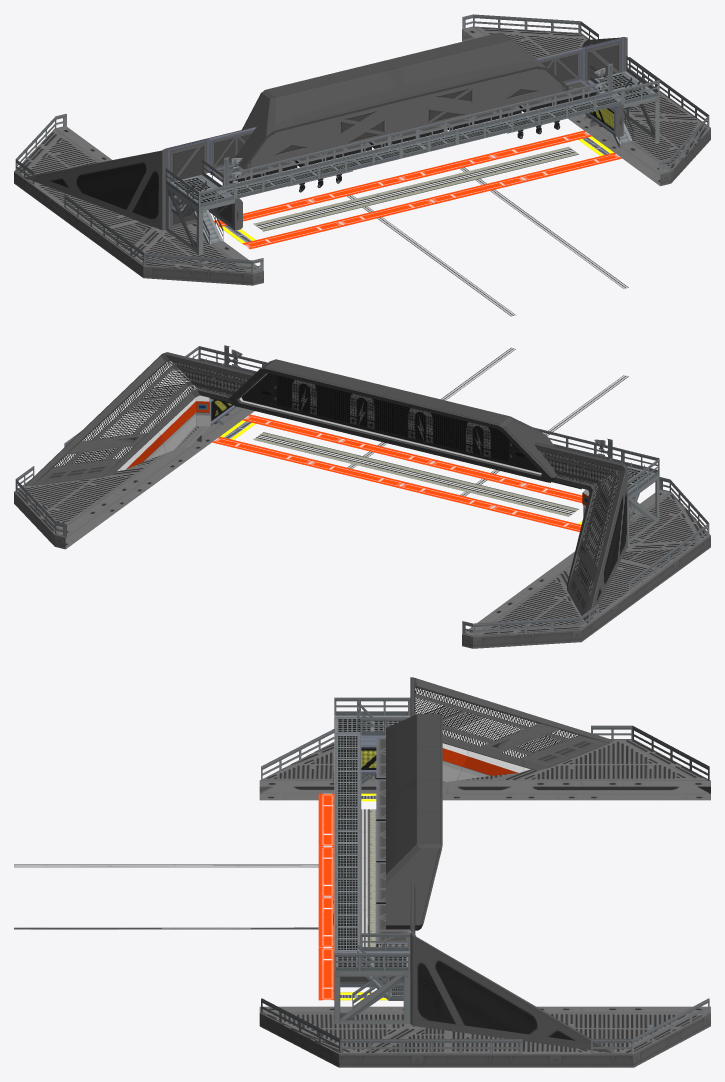
Rendered from gat_sta_magnetic_bridge.fbx.
The picture shows the model from 3 angles, top to bottom: view 1: azimuth 30°, elevation 25°; view 2: azimuth 150°, elevation 25°; view 3: azimuth 270°, elevation 25°; orthographic projection. The views are drawn at different scales.
Parts seen in each view (by area): view 1: gat_sta_magnetic_bridge, magnetic_road_lines; view 2: gat_sta_magnetic_bridge, magnetic_road_lines; view 3: gat_sta_magnetic_bridge, magnetic_road_lines.
Boxes of the visible parts, x1,y1,x2,y2 form: gat_sta_magnetic_bridge: (14, 14, 710, 285); magnetic_road_lines: (253, 147, 628, 316); gat_sta_magnetic_bridge: (14, 345, 710, 648); magnetic_road_lines: (253, 347, 628, 516); gat_sta_magnetic_bridge: (259, 677, 710, 1067); magnetic_road_lines: (14, 809, 376, 946).
Bounding box in the file's own units: 6216 × 1206 × 5811.
